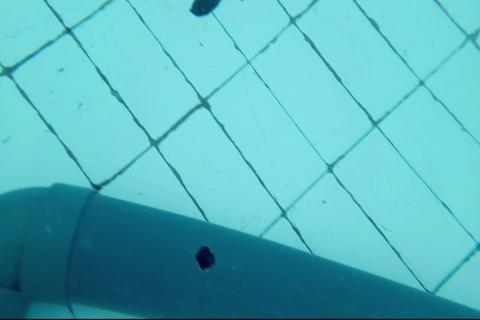kebocoran: (193, 243, 217, 273)
